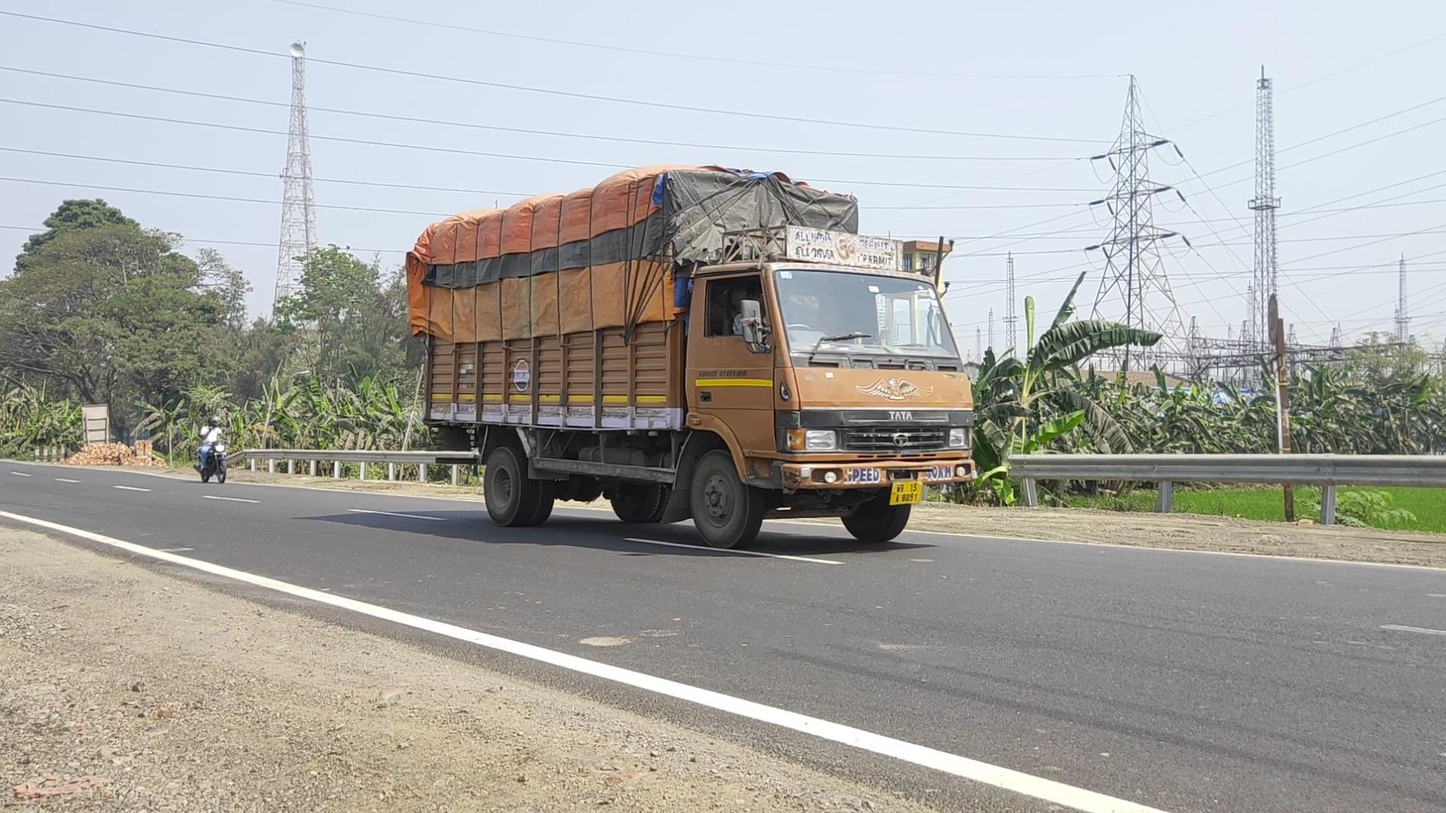bike: (193, 416, 229, 484)
truck: (409, 166, 978, 550)
